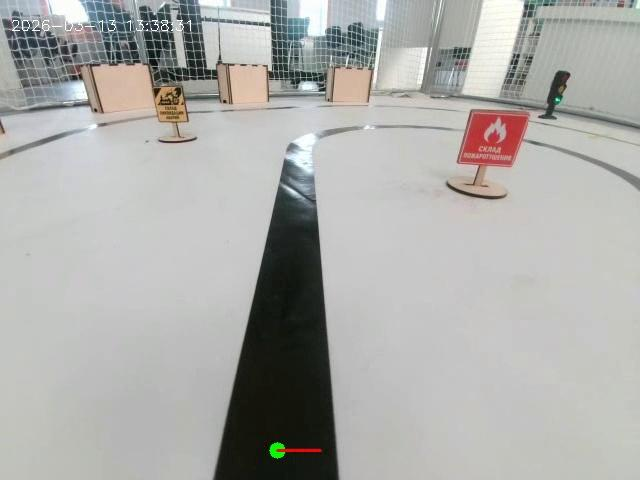fire: (454, 108, 542, 206)
industrial: (149, 70, 196, 149)
